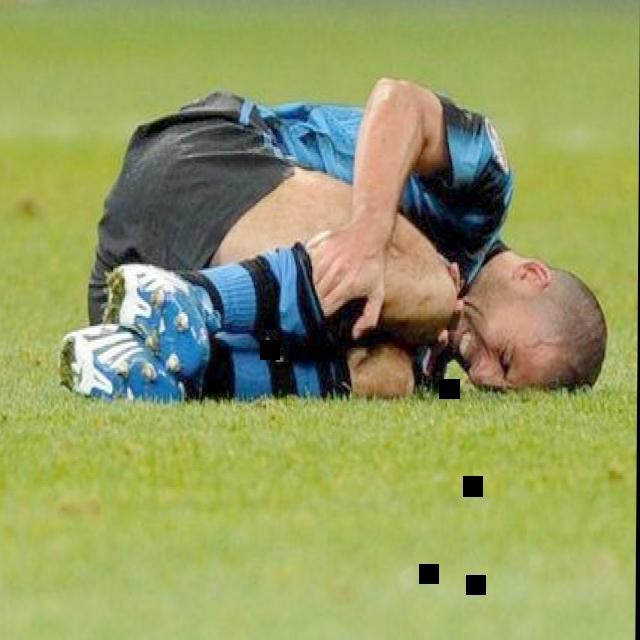Fall-Detected: (56, 42, 606, 416)
